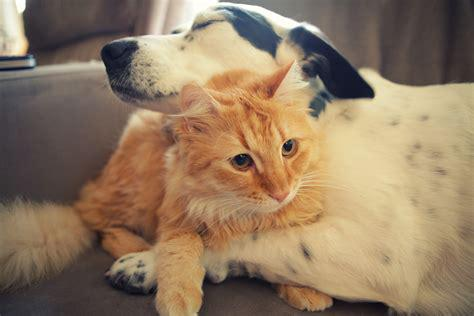cat: (1, 62, 332, 316)
dog: (101, 3, 472, 316)
